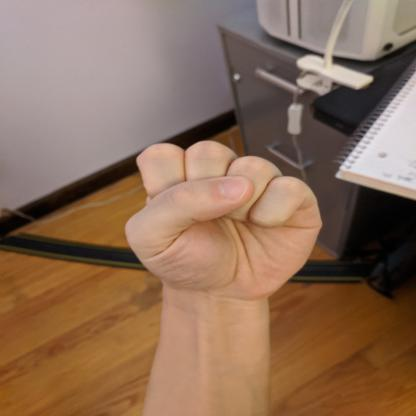S: (118, 136, 328, 303)
